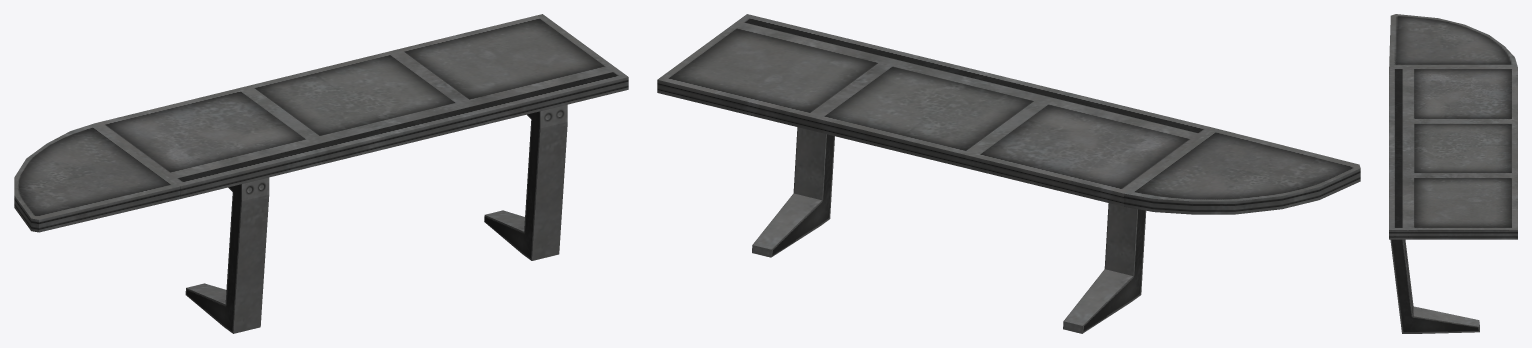
The model's file is Obj_Counter_2.FBX.
3 renders of one model, left to right at view 1: azimuth 30°, elevation 25°; view 2: azimuth 150°, elevation 25°; view 3: azimuth 270°, elevation 25°, orthographic. The views are drawn at different scales.
Parts seen in each view (by area): view 1: Counter_2; view 2: Counter_2; view 3: Counter_2.
Boxes of the visible parts, <box> form: Counter_2: <box>14,14,628,333</box>; Counter_2: <box>657,14,1360,333</box>; Counter_2: <box>1389,14,1517,333</box>.
Bounding box in the file's own units: 3.97 × 1.08 × 1.
